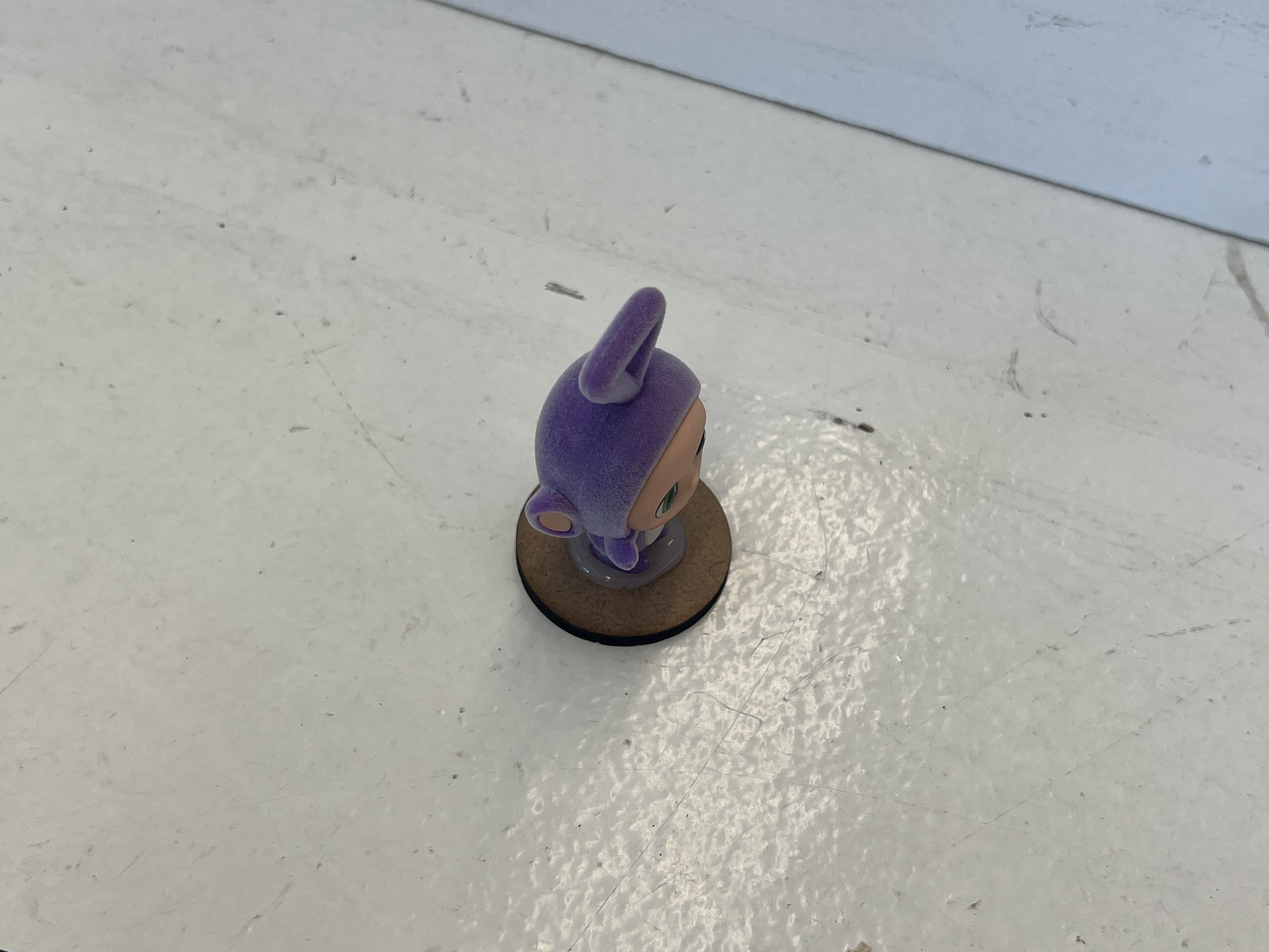teletubby: (525, 288, 706, 572)
